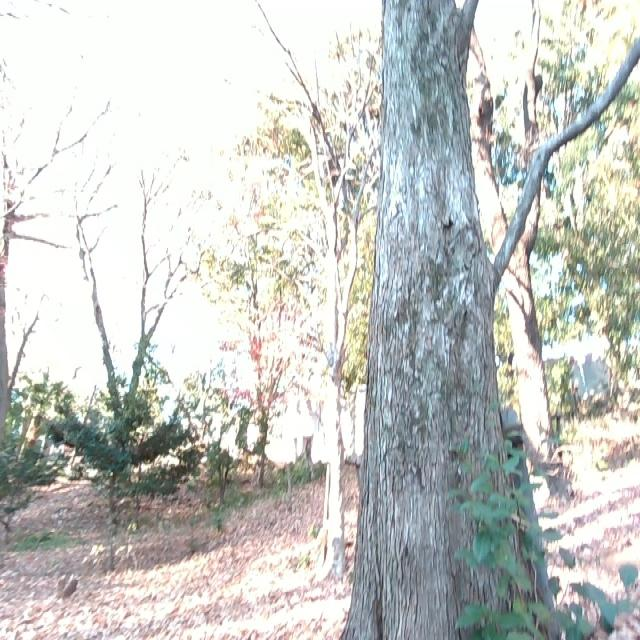bush: (463, 406, 617, 640), (51, 363, 195, 509), (0, 369, 61, 514)
tree: (326, 0, 640, 640), (457, 0, 584, 491), (307, 69, 375, 576), (0, 65, 85, 431), (74, 154, 192, 394)
